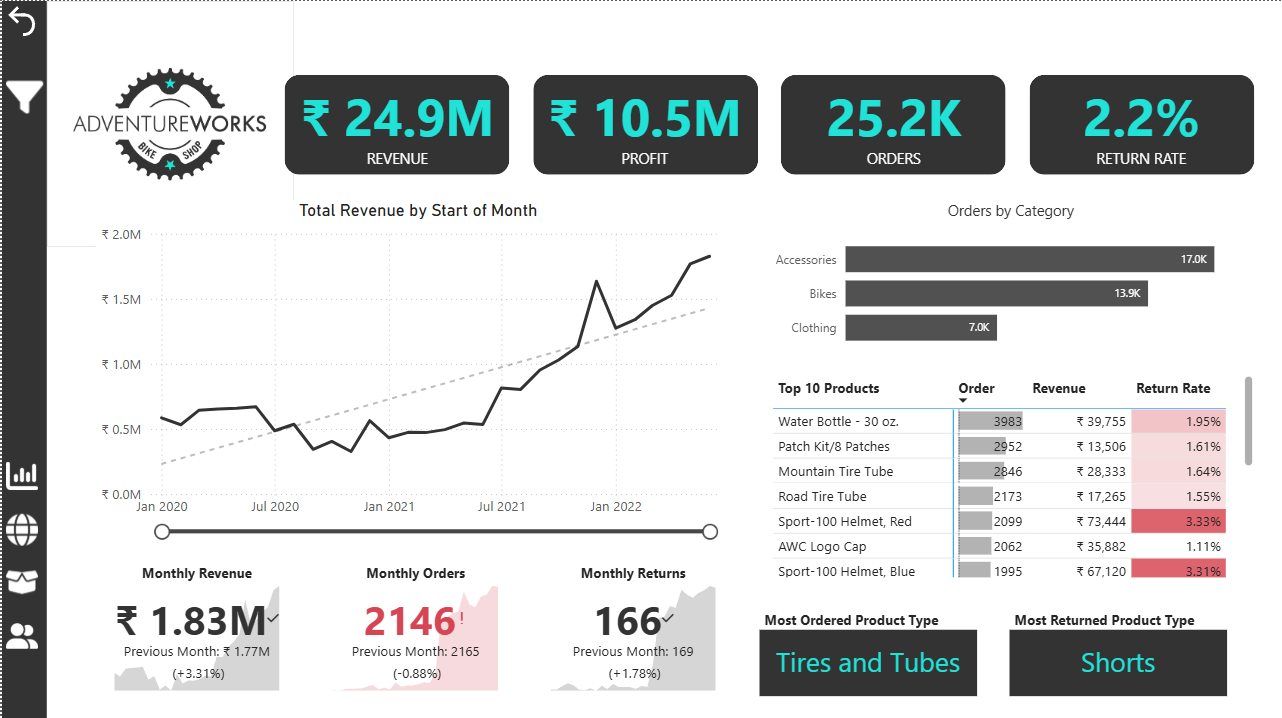

The page's visual inventory and layout, read from the dashboard file:
{"tool":"powerbi","page":{"name":"Exec Dashboard","canvas":[1280,720],"ordinal":0},"visuals":[{"type":"image","title":"AW Logo","box":[45,0,246.2,246.2],"z":0},{"type":"shape","box":[282.5,73.8,225,100],"z":0,"group":"g2"},{"type":"shape","title":"Left Nav Background","box":[0,0,45,720],"z":1000},{"type":"shape","box":[530.8,73.8,225,100],"z":1000,"group":"g2"},{"type":"actionButton","box":[0,508.3,55,40],"z":1000,"group":"g4"},{"type":"group","id":"g1","title":"KPI","box":[267.5,48.8,1000,150],"z":2000},{"type":"group","id":"g2","title":"KPI Background","box":[282.5,73.8,970,100],"z":2000,"group":"g1"},{"type":"shape","box":[779.2,73.8,225,100],"z":2000,"group":"g2"},{"type":"actionButton","box":[0,561.7,55,40],"z":2000,"group":"g4"},{"type":"card","fields":{"Values":["Measure Table.Total Revenue"]},"box":[267.5,48.8,256.2,150],"z":3000,"group":"g3"},{"type":"shape","box":[1027.5,73.8,225,100],"z":3000,"group":"g2"},{"type":"lineChart","fields":{"Y":["Measure Table.Total Revenue"],"Category":["Calendar Lookup.Start of Month"]},"box":[93.8,198.8,645,342.5],"z":3000},{"type":"actionButton","box":[0,455,55,40],"z":3000,"group":"g4"},{"type":"card","fields":{"Values":["Measure Table.Total Profit"]},"box":[515.4,48.8,256.2,150],"z":4000,"group":"g3"},{"type":"kpi","title":"Monthly Revenue","fields":{"Indicator":["Measure Table.Total Revenue"],"TrendLine":["Calendar Lookup.Start of Month"],"Goal":["Measure Table.Previous Month Revenue"]},"box":[107.5,562.5,175,132.5],"z":4000},{"type":"actionButton","box":[0,615,55,40],"z":4000,"group":"g4"},{"type":"card","fields":{"Values":["Measure Table.Total Order"]},"box":[763.3,48.8,256.2,150],"z":5000,"group":"g3"},{"type":"kpi","title":"Monthly Orders","fields":{"TrendLine":["Calendar Lookup.Start of Month"],"Indicator":["Measure Table.Total Order"],"Goal":["Measure Table.Previous Month Orders"]},"box":[325.6,562.5,175,132.5],"z":5000},{"type":"card","fields":{"Values":["Measure Table.Return Rate"]},"box":[1011.2,48.8,256.2,150],"z":6000,"group":"g3"},{"type":"kpi","title":"Monthly Returns","fields":{"TrendLine":["Calendar Lookup.Start of Month"],"Indicator":["Measure Table.Total Return"],"Goal":["Measure Table.Previous Month Returns"]},"box":[543.8,562.5,175,132.5],"z":6000},{"type":"group","id":"g3","title":"KPI Values","box":[267.5,48.8,1000,150],"z":6001,"group":"g1"},{"type":"clusteredBarChart","title":"Orders by Category","fields":{"Category":["Product Categories Lookup.CategoryName"],"Y":["Measure Table.Total Order"]},"box":[763.8,198.8,490,161.2],"z":7000},{"type":"pivotTable","fields":{"Rows":["Product Lookup.ProductName"],"Values":["Measure Table.Total Order","Measure Table.Total Revenue","Measure Table.Return Rate"]},"box":[766.2,370,490,211.2],"z":8000},{"type":"card","title":"Most Ordered Product Type","fields":{"Values":["Min(Product Subcategories Lookup.SubcategoryName)"]},"box":[757.5,628.8,217.5,66.2],"z":9000},{"type":"textbox","box":[756.9,605.3,194.4,30.6],"z":10000},{"type":"card","title":"Most Ordered Product Type","fields":{"Values":["Min(Product Subcategories Lookup.SubcategoryName)"]},"box":[1007.8,628.8,217.5,66.2],"z":11000},{"type":"textbox","box":[1007.6,605.3,195.7,30.6],"z":12000},{"type":"actionButton","box":[0,0,45,40],"z":13000},{"type":"group","id":"g4","title":"Navigation Buttons","box":[0,455,55,200],"z":14000},{"type":"actionButton","box":[0,68.5,45.2,55],"z":15000}]}

Visuals, with their boxes on the page's 1280x720 design canvas (x1, y1, x2, y2). These are canvas units, not pixel positions in the 1282x718 screenshot, which may show the page scaled, cropped or inside an application window:
"AW Logo" image: detection(45, 0, 291, 246)
shape: detection(282, 74, 508, 174)
"Left Nav Background" shape: detection(0, 0, 45, 720)
shape: detection(531, 74, 756, 174)
actionButton: detection(0, 508, 55, 548)
"KPI" group: detection(268, 49, 1268, 199)
"KPI Background" group: detection(282, 74, 1252, 174)
shape: detection(779, 74, 1004, 174)
actionButton: detection(0, 562, 55, 602)
card - Measure Table.Total Revenue: detection(268, 49, 524, 199)
shape: detection(1028, 74, 1252, 174)
lineChart - Measure Table.Total Revenue x Calendar Lookup.Start of Month: detection(94, 199, 739, 541)
actionButton: detection(0, 455, 55, 495)
card - Measure Table.Total Profit: detection(515, 49, 772, 199)
"Monthly Revenue" kpi: detection(108, 562, 282, 695)
actionButton: detection(0, 615, 55, 655)
card - Measure Table.Total Order: detection(763, 49, 1020, 199)
"Monthly Orders" kpi: detection(326, 562, 501, 695)
card - Measure Table.Return Rate: detection(1011, 49, 1267, 199)
"Monthly Returns" kpi: detection(544, 562, 719, 695)
"KPI Values" group: detection(268, 49, 1268, 199)
"Orders by Category" clusteredBarChart: detection(764, 199, 1254, 360)
pivotTable - Product Lookup.ProductName x Measure Table.Total Order: detection(766, 370, 1256, 581)
"Most Ordered Product Type" card: detection(758, 629, 975, 695)
textbox: detection(757, 605, 951, 636)
"Most Ordered Product Type" card: detection(1008, 629, 1225, 695)
textbox: detection(1008, 605, 1203, 636)
actionButton: detection(0, 0, 45, 40)
"Navigation Buttons" group: detection(0, 455, 55, 655)
actionButton: detection(0, 68, 45, 124)
